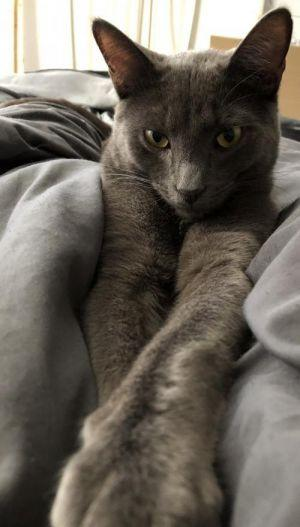rblue: (85, 3, 299, 231)
